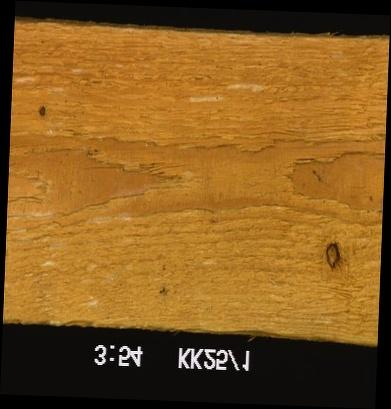dry_knot: (323, 240, 340, 271)
small_knot: (36, 104, 47, 118)
